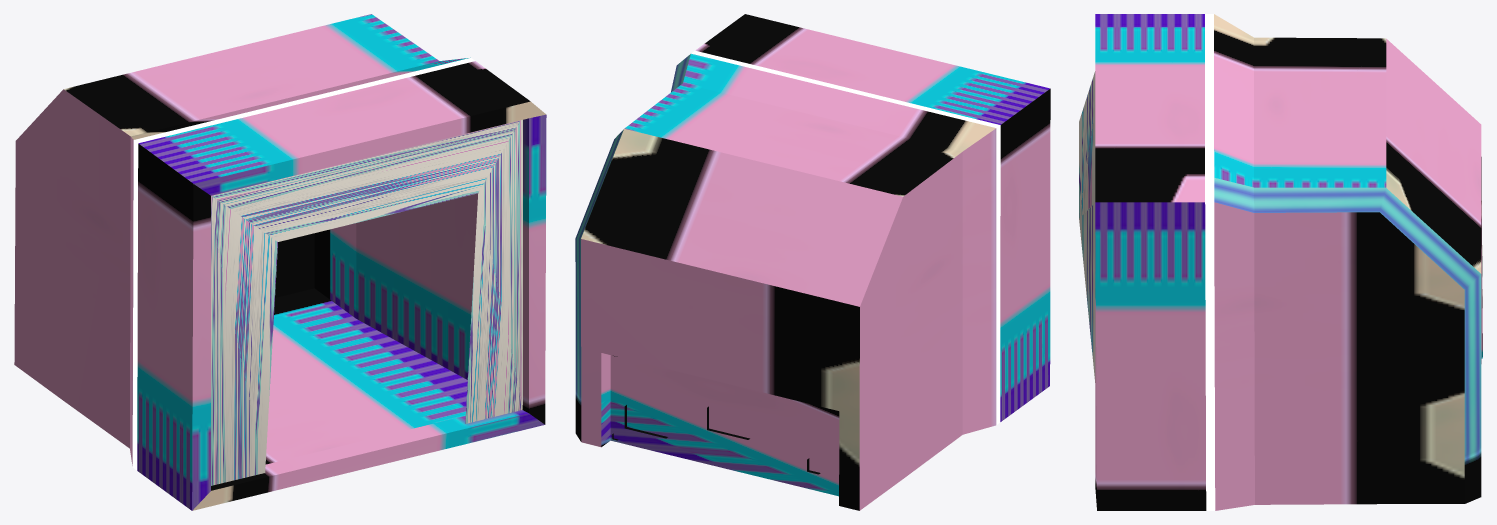
The model's file is ComputerScreen_Open_Retro.glb.
3 renders of one model, left to right at view 1: azimuth 30°, elevation 25°; view 2: azimuth 150°, elevation 25°; view 3: azimuth 270°, elevation 25°, orthographic. The views are drawn at different scales.
Parts seen in each view (by area): view 1: ComputerScreen_Open_Retro; view 2: ComputerScreen_Open_Retro; view 3: ComputerScreen_Open_Retro.
Boxes of the visible parts, box(x1,y1,x2,y2) form: ComputerScreen_Open_Retro: box(14, 14, 546, 510); ComputerScreen_Open_Retro: box(575, 14, 1050, 510); ComputerScreen_Open_Retro: box(1079, 14, 1482, 510).
Bounding box in the file's own units: 2.8 × 2.48 × 2.79.
Materials: 3 (3 with a texture image).
